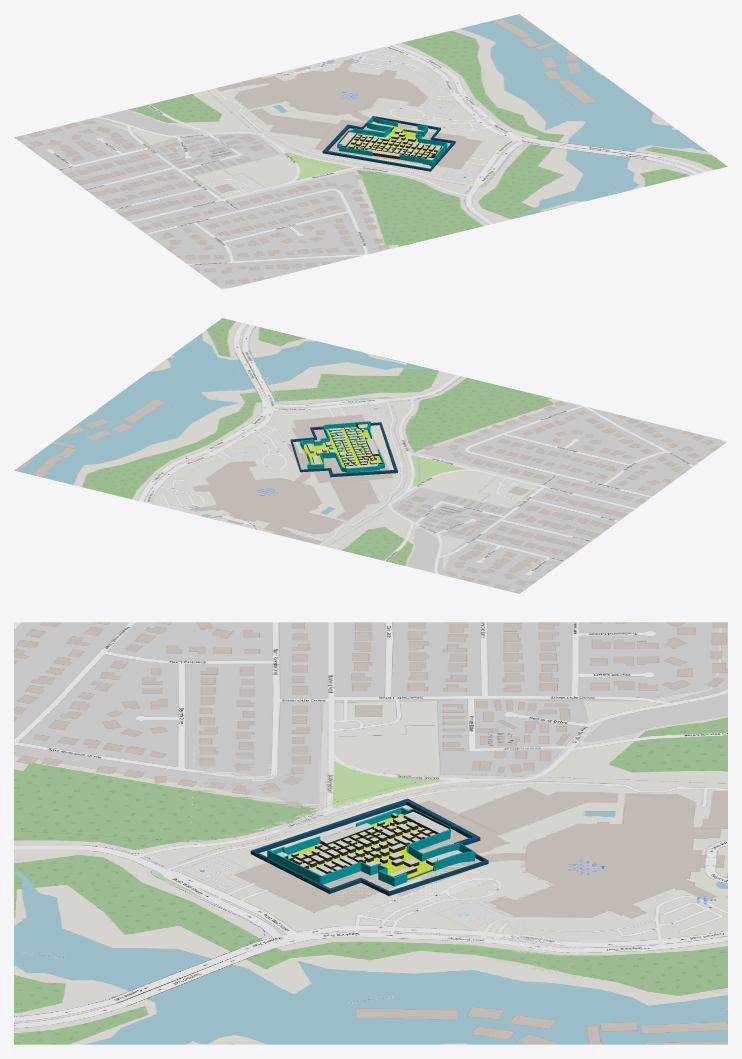
File: nrf_gps.glb
The picture shows the model from 3 angles, top to bottom: view 1: azimuth 30°, elevation 25°; view 2: azimuth 150°, elevation 25°; view 3: azimuth 270°, elevation 25°; orthographic projection. The views are drawn at different scales.
Visible parts, largest first — view 1: EXPORT_OSM_MAPNIK_WM, Screenshot 2023-08-17 103633, Ways; view 2: EXPORT_OSM_MAPNIK_WM, Ways, Screenshot 2023-08-17 103633; view 3: EXPORT_OSM_MAPNIK_WM, Screenshot 2023-08-17 103633, Ways.
Part boxes in pixels (x1,y1,x2,y2): EXPORT_OSM_MAPNIK_WM: (14, 14, 727, 289); Screenshot 2023-08-17 103633: (205, 61, 563, 205); Ways: (322, 116, 455, 171); EXPORT_OSM_MAPNIK_WM: (14, 318, 727, 593); Ways: (290, 421, 397, 477); Screenshot 2023-08-17 103633: (189, 370, 479, 526); EXPORT_OSM_MAPNIK_WM: (14, 622, 727, 1044); Screenshot 2023-08-17 103633: (190, 745, 594, 994); Ways: (250, 798, 488, 895).
Size of the model in its own units: 1062 by 15.75 by 759.
23 materials, 17 textured.
